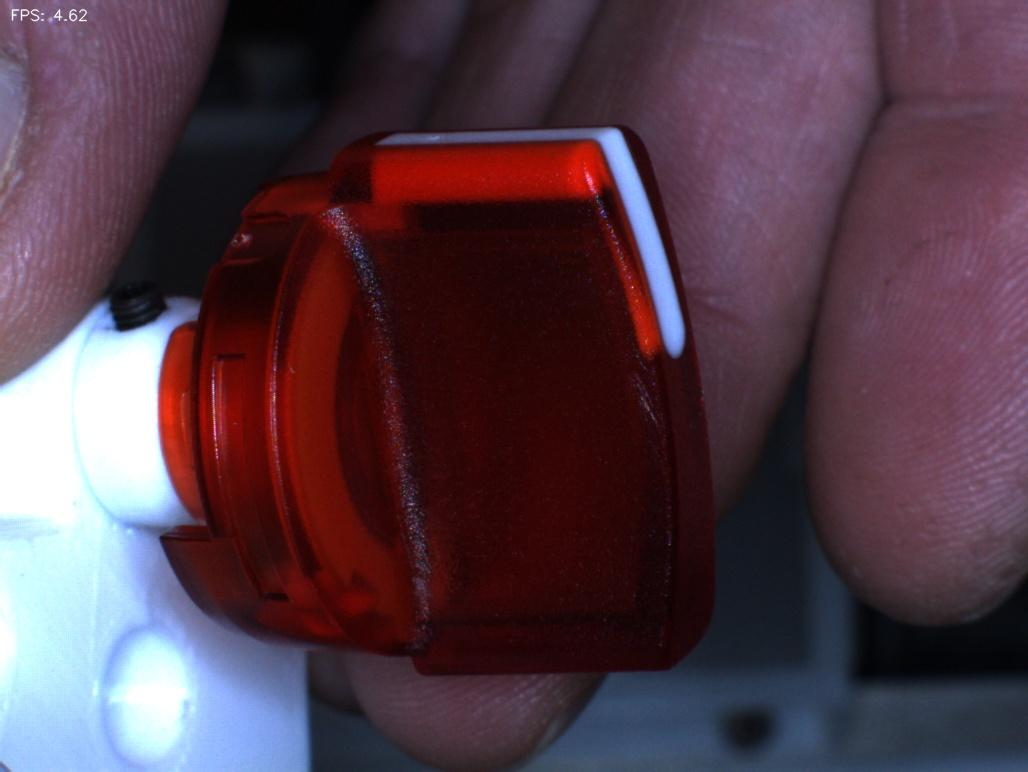Givrage: (603, 344, 686, 459)
